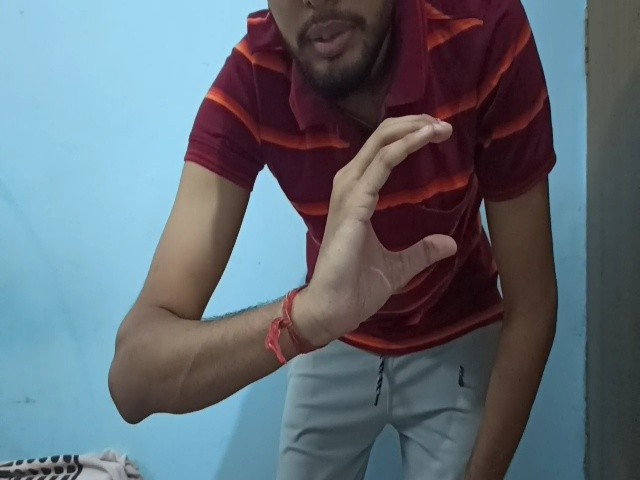C: (310, 114, 459, 340)
